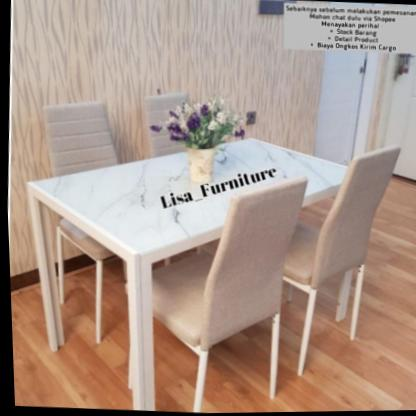Dining Table: (2, 76, 416, 416)
Wooden floor: (341, 178, 416, 412), (9, 287, 128, 410), (150, 319, 196, 413)
